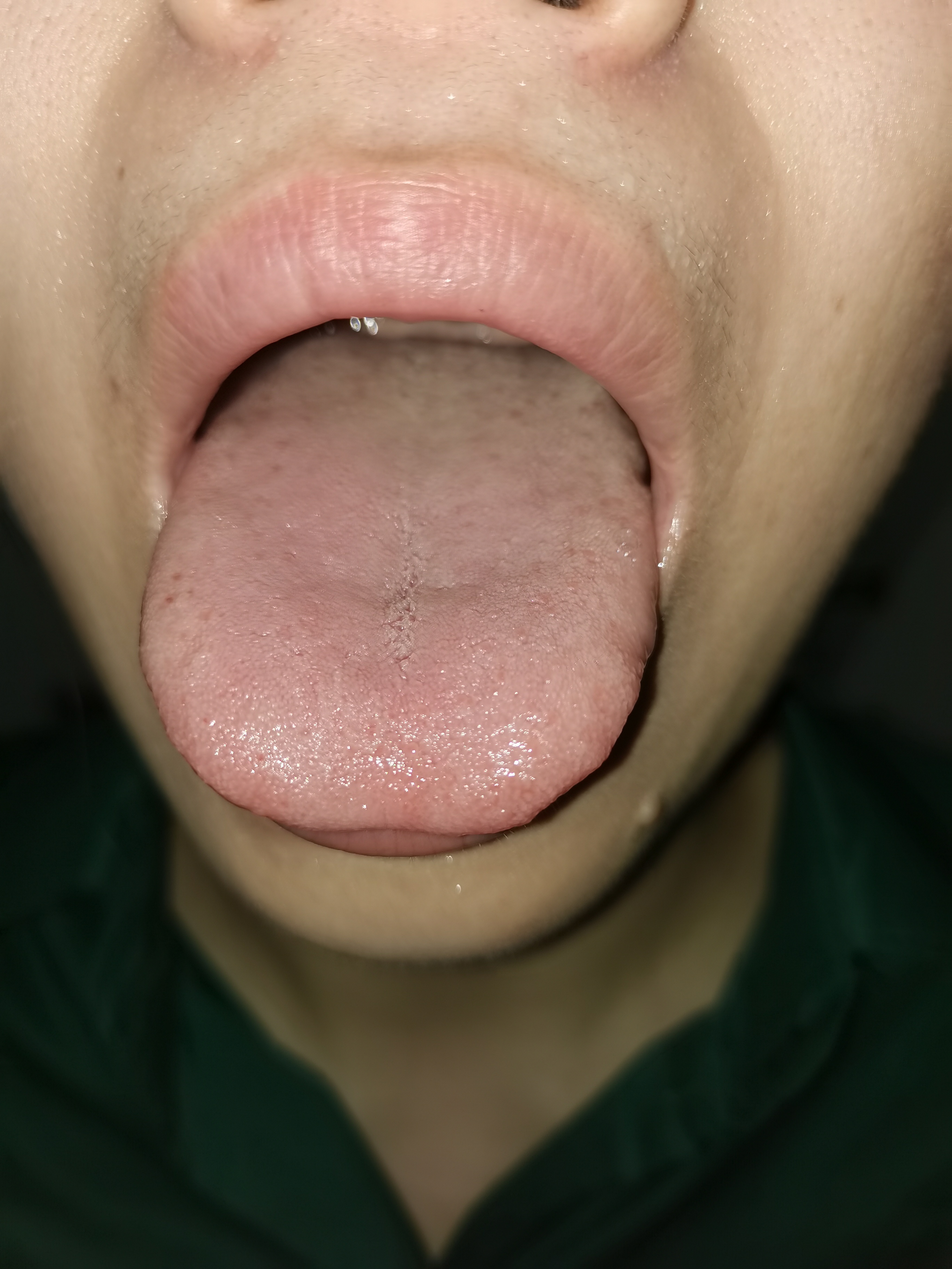baitaishe: (139, 332, 658, 836)
hongdianshe: (161, 592, 176, 606)
